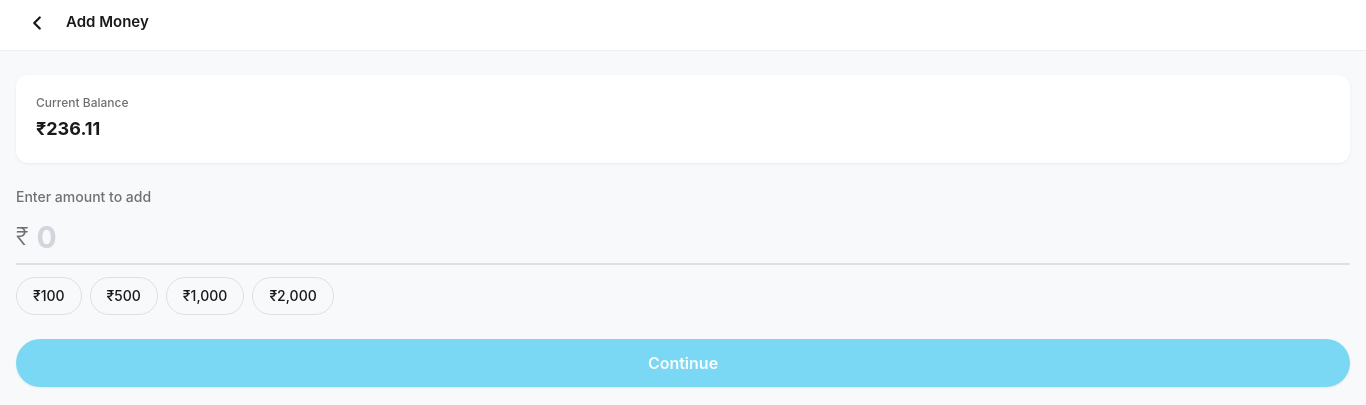
Test: AddMoneyPage › clicking a preset button fills the amount input
The width and height of the screenshot is (1366, 405).
Click the button "₹500" at x=124, y=296, box [90,277,158,315]
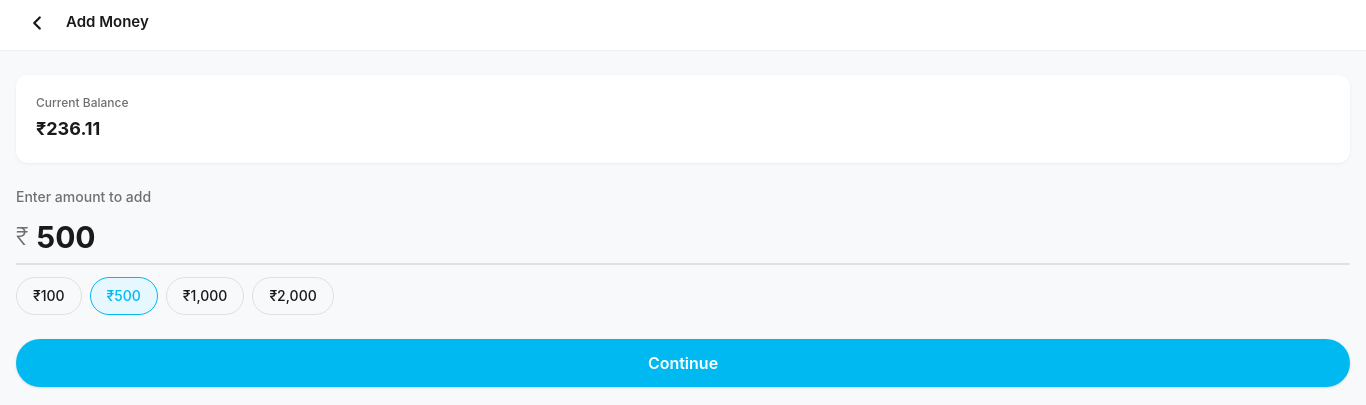
Expected: the field with placeholder "0" holds "500", [36,219,1350,255]
